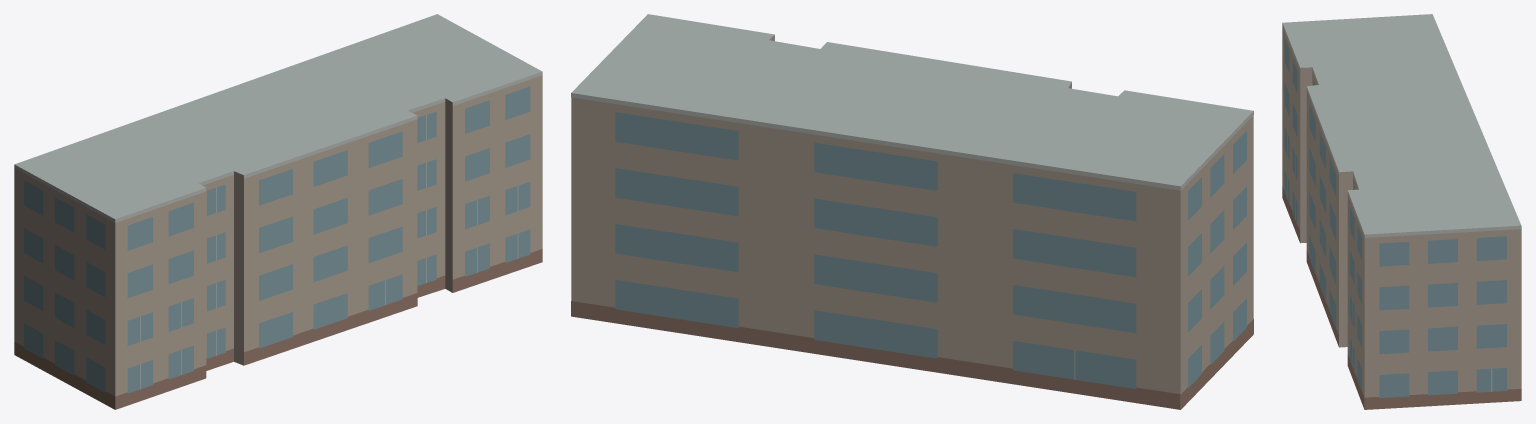
Rendered from survey-upis-32575162.glb.
The picture shows the model from 3 angles, left to right: view 1: azimuth 30°, elevation 25°; view 2: azimuth 150°, elevation 25°; view 3: azimuth 270°, elevation 25°; orthographic projection. The views are drawn at different scales.
Visible parts, largest first — view 1: survey-upis-32575162.tmp; view 2: survey-upis-32575162.tmp; view 3: survey-upis-32575162.tmp.
Part boxes in pixels (box(x1,y1,x2,y2)): survey-upis-32575162.tmp: box(14, 14, 542, 409); survey-upis-32575162.tmp: box(571, 14, 1253, 409); survey-upis-32575162.tmp: box(1282, 14, 1521, 409).
Size of the model in its own units: 33.6 by 12.45 by 15.39.
